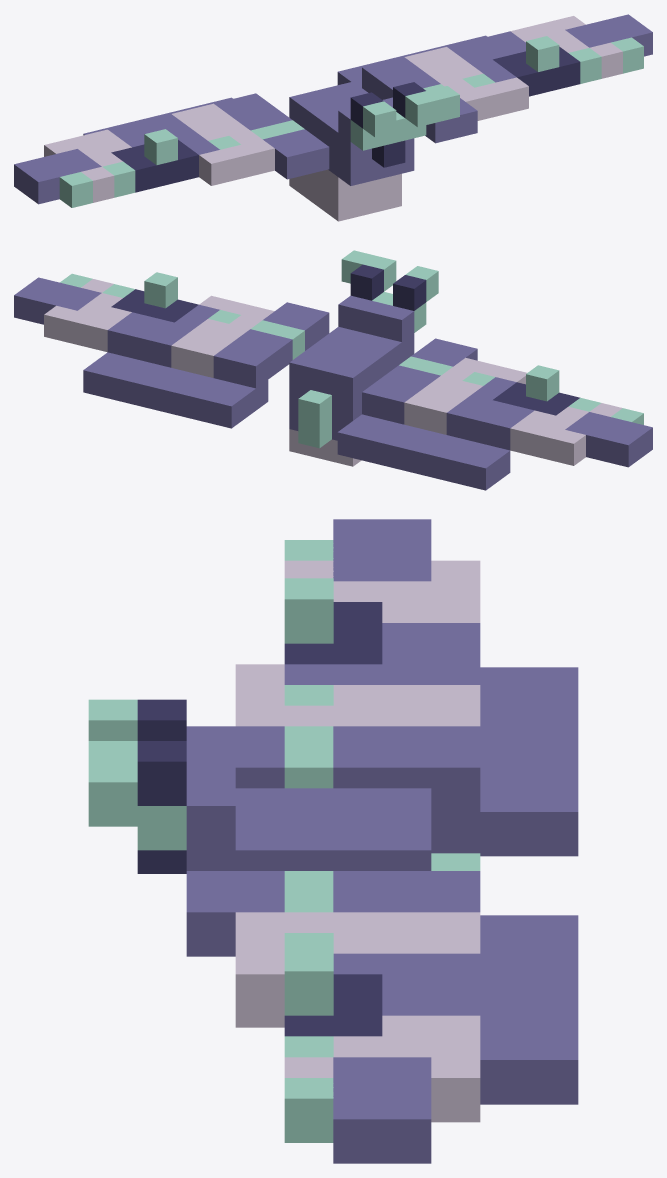
Rendered from mana_moth.glb.
The picture shows the model from 3 angles, top to bottom: view 1: azimuth 30°, elevation 25°; view 2: azimuth 150°, elevation 25°; view 3: azimuth 270°, elevation 25°; orthographic projection. The views are drawn at different scales.
Visible parts, largest first — view 1: mana_moth/wing_-1, mana_moth/wing_1, mana_moth/thorax, mana_moth/head, mana_moth/feathery_antenna_1, mana_moth/feathery_antenna_-1; view 2: mana_moth/wing_1, mana_moth/wing_-1, mana_moth/thorax, mana_moth/head, mana_moth/feathery_antenna_1, mana_moth/feathery_antenna_-1; view 3: mana_moth/wing_1, mana_moth/wing_-1, mana_moth/thorax, mana_moth/head, mana_moth/feathery_antenna_1, mana_moth/feathery_antenna_-1.
Boxes of the visible parts, box(x1,y1,x2,y2) form: mana_moth/wing_-1: box(14, 93, 329, 207); mana_moth/wing_1: box(337, 14, 652, 143); mana_moth/thorax: box(289, 81, 401, 221); mana_moth/head: box(338, 97, 426, 185); mana_moth/feathery_antenna_1: box(393, 82, 459, 127); mana_moth/feathery_antenna_-1: box(350, 92, 405, 145); mana_moth/wing_1: box(14, 272, 329, 428); mana_moth/wing_-1: box(337, 338, 652, 490); mana_moth/thorax: box(289, 327, 401, 466); mana_moth/head: box(338, 295, 426, 362); mana_moth/feathery_antenna_1: box(341, 250, 396, 300); mana_moth/feathery_antenna_-1: box(372, 266, 438, 310); mana_moth/wing_1: box(186, 871, 578, 1163); mana_moth/wing_-1: box(186, 519, 578, 856); mana_moth/thorax: box(235, 788, 480, 1027); mana_moth/head: box(137, 744, 235, 873); mana_moth/feathery_antenna_1: box(88, 741, 186, 826); mana_moth/feathery_antenna_-1: box(88, 699, 186, 740).
Bounding box in the file's own units: 0.9062 × 0.1875 × 0.3125.
